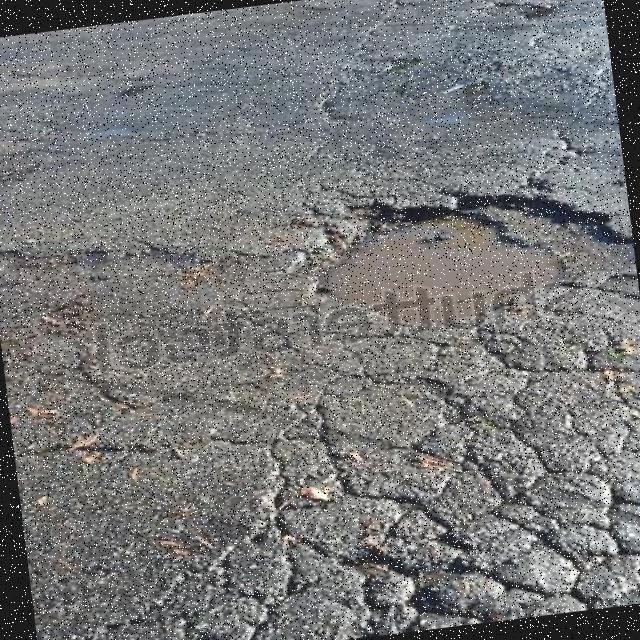Pothole: (305, 190, 633, 323)
